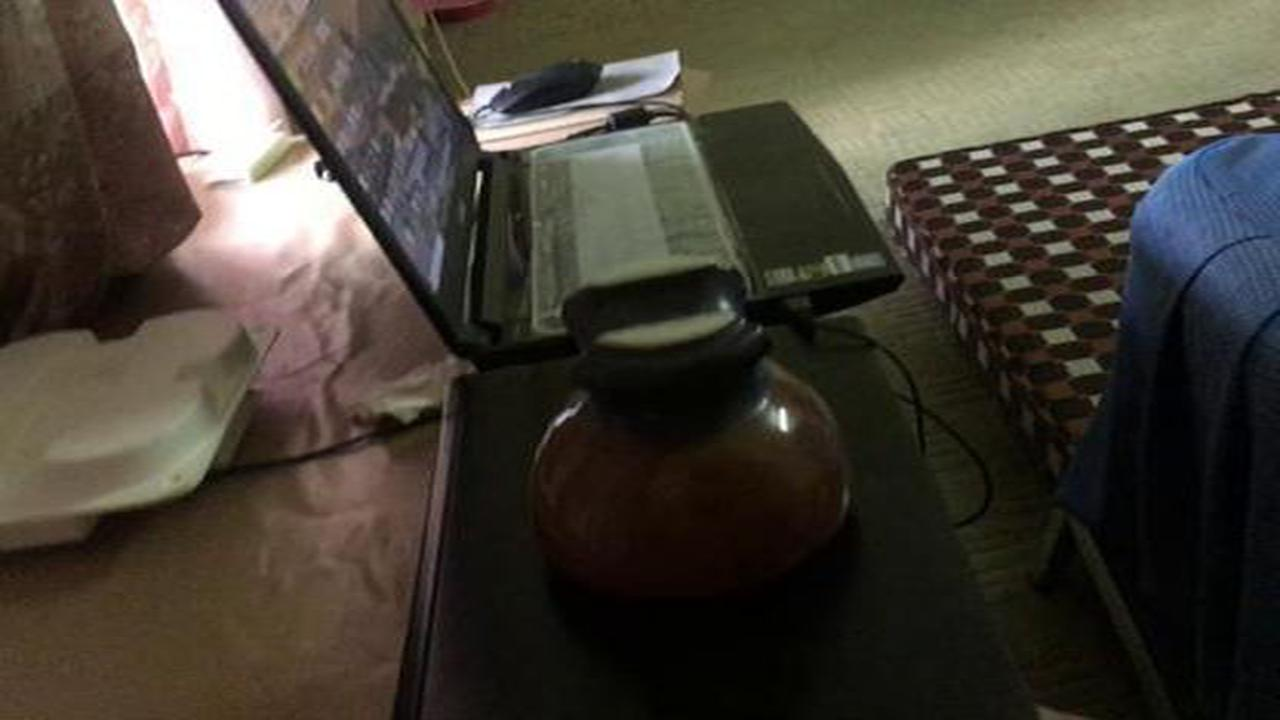insulator_pin: (511, 248, 877, 636)
